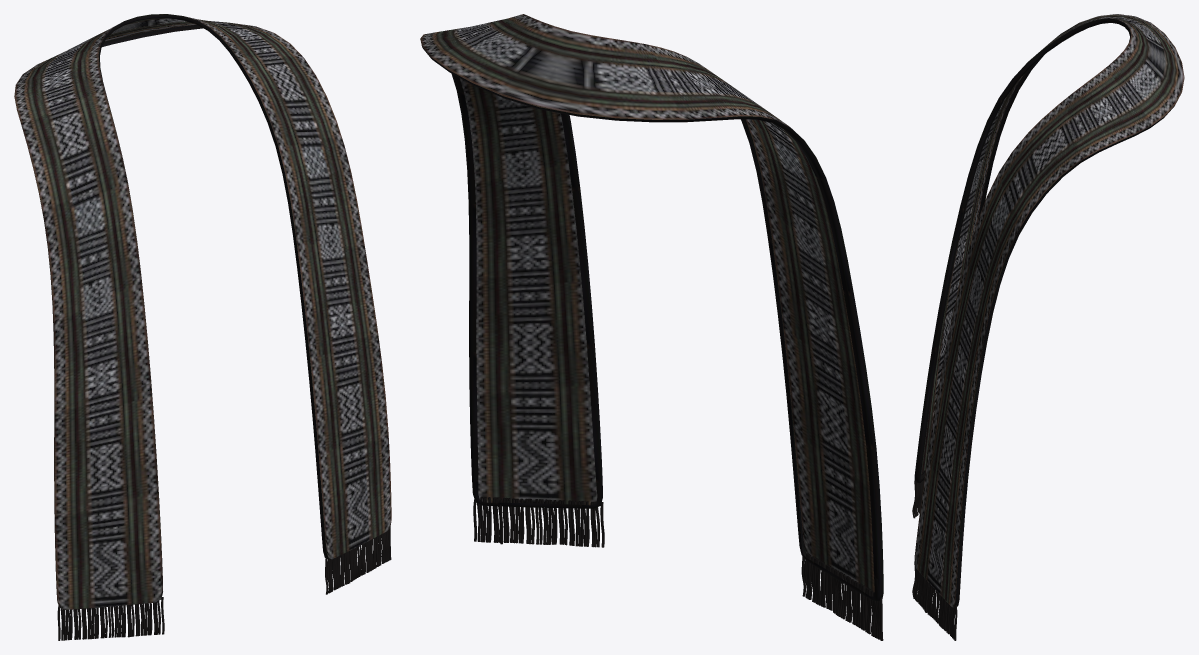
The model's file is sash_two.glb.
The picture shows the model from 3 angles, left to right: view 1: azimuth 30°, elevation 25°; view 2: azimuth 150°, elevation 25°; view 3: azimuth 270°, elevation 25°; orthographic projection. The views are drawn at different scales.
Visible parts, largest first — view 1: sash; view 2: sash; view 3: sash.
Part boxes in pixels (x1=…): sash: x1=14, y1=14, x2=391, y2=640; sash: x1=420, y1=14, x2=883, y2=640; sash: x1=912, y1=14, x2=1184, y2=640.
Size of the model in its own units: 1.53 by 2.26 by 1.06.
Materials: 2 (1 with a texture image).
